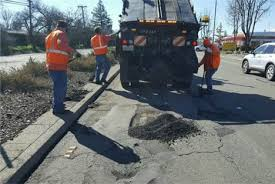pothole: (128, 101, 194, 147)
